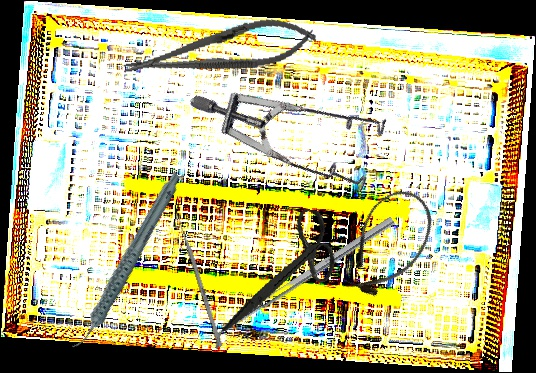Cannula: (330, 177, 447, 310)
Handpiece: (38, 170, 212, 352)
Iris Scissors: (219, 195, 347, 353)
Needle Holder: (119, 10, 320, 91)
Pusher: (174, 209, 223, 348)
Spatula Surgical: (207, 216, 400, 350)
Speculum: (187, 11, 412, 240)
